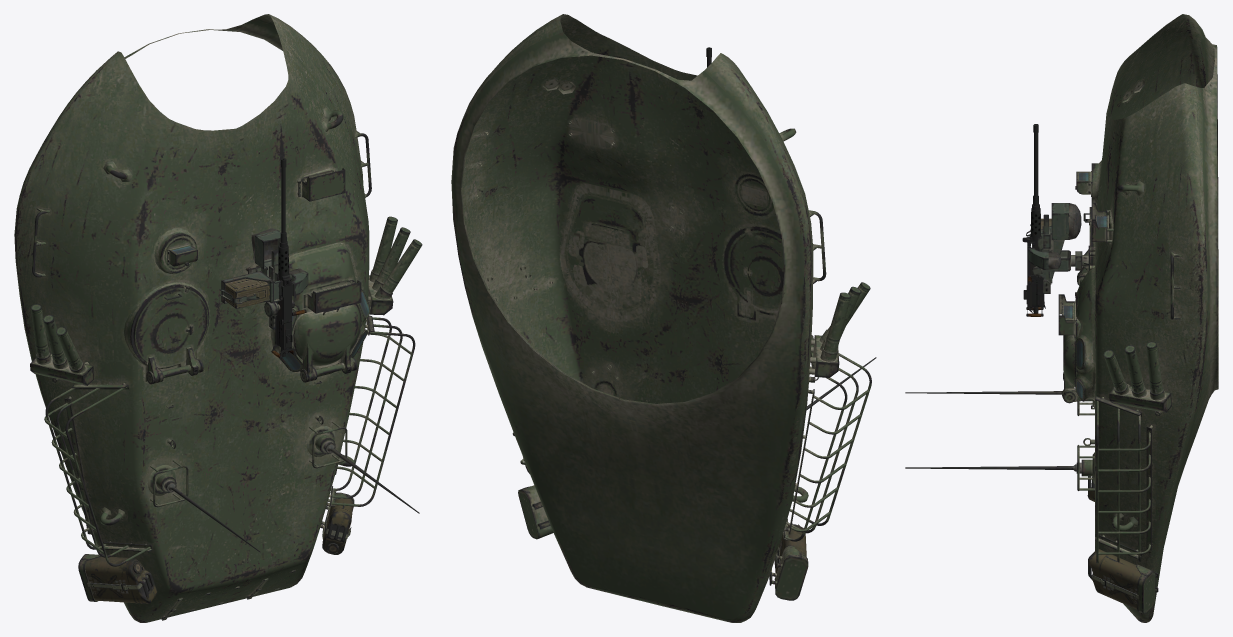
File: Turret_01.glb
3 views of the same model, side by side, from view 1: azimuth 30°, elevation 25°; view 2: azimuth 150°, elevation 25°; view 3: azimuth 270°, elevation 25° (orthographic). The views are drawn at different scales.
Parts seen in each view (by area): view 1: set_0_group_0; view 2: set_0_group_0; view 3: set_0_group_0.
Part boxes in pixels (x1,y1,x2,y2): set_0_group_0: [14, 14, 422, 622]; set_0_group_0: [451, 14, 876, 622]; set_0_group_0: [905, 14, 1218, 622].
Bounding box in the file's own units: 3.25 × 4.69 × 2.47.
1 material, 1 textured.
